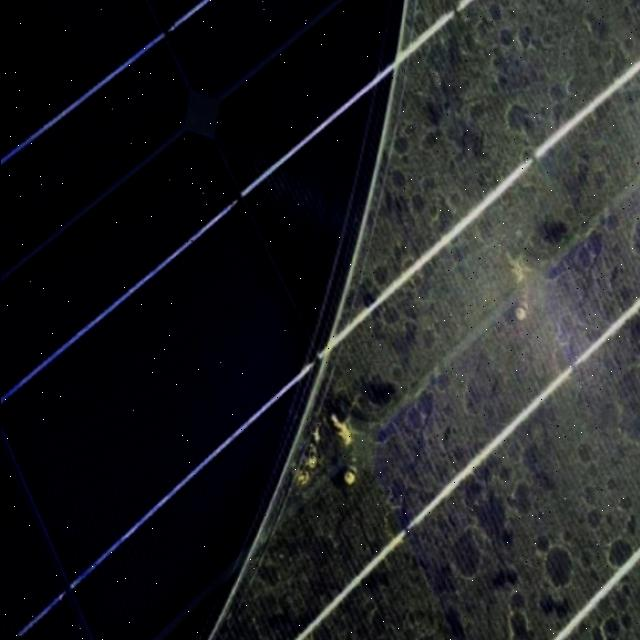Anomaly Solar Panel: (0, 0, 640, 640)
Surface Contaminant: (160, 0, 640, 640)
